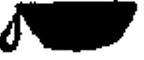Basket: (2, 2, 141, 52)
